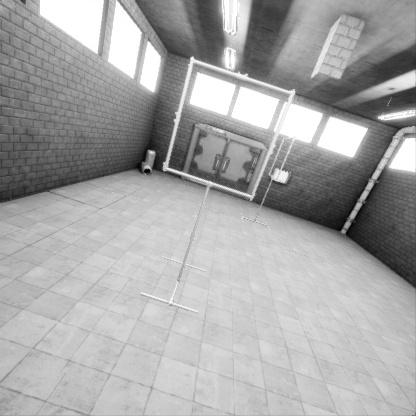gate: (170, 221, 303, 359), (269, 237, 296, 281)
